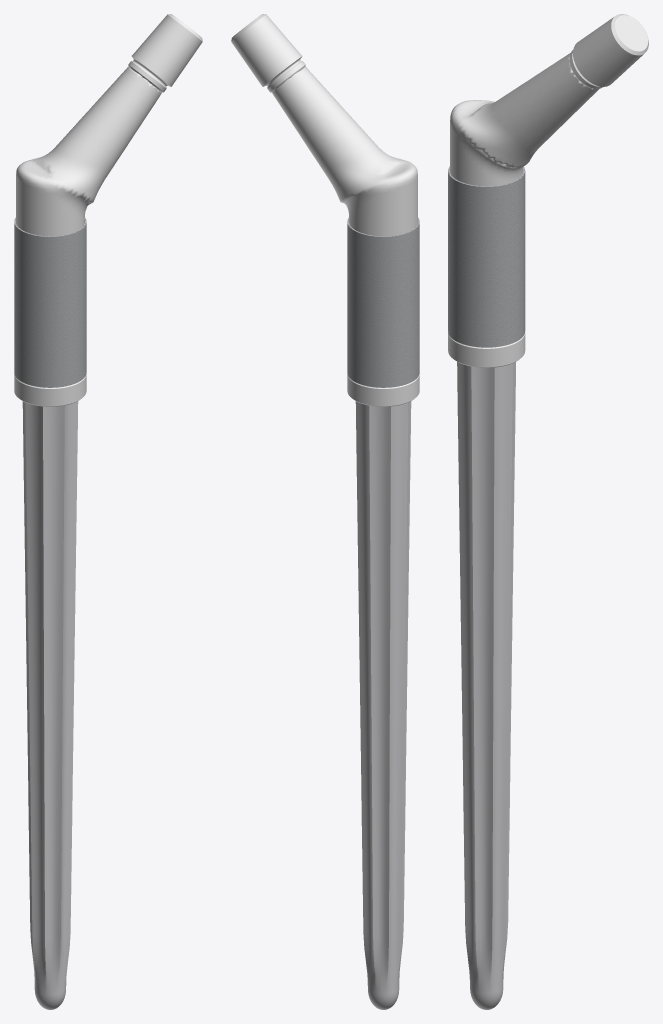
The model's file is revistem_m_20x70_16x190_lod1.glb.
3 renders of one model, left to right at view 1: azimuth 30°, elevation 25°; view 2: azimuth 150°, elevation 25°; view 3: azimuth 330°, elevation 25°, orthographic. The views are drawn at different scales.
Parts seen in each view (by area): view 1: revistem; view 2: revistem; view 3: revistem.
Part boxes in pixels (box(x1,y1,x2,y2)): revistem: box(14, 14, 202, 1009); revistem: box(231, 14, 419, 1009); revistem: box(448, 14, 648, 1009).
Bounding box in the file's own units: 0.0573 × 0.2934 × 0.0206.
Materials: 3 (1 with a texture image).
